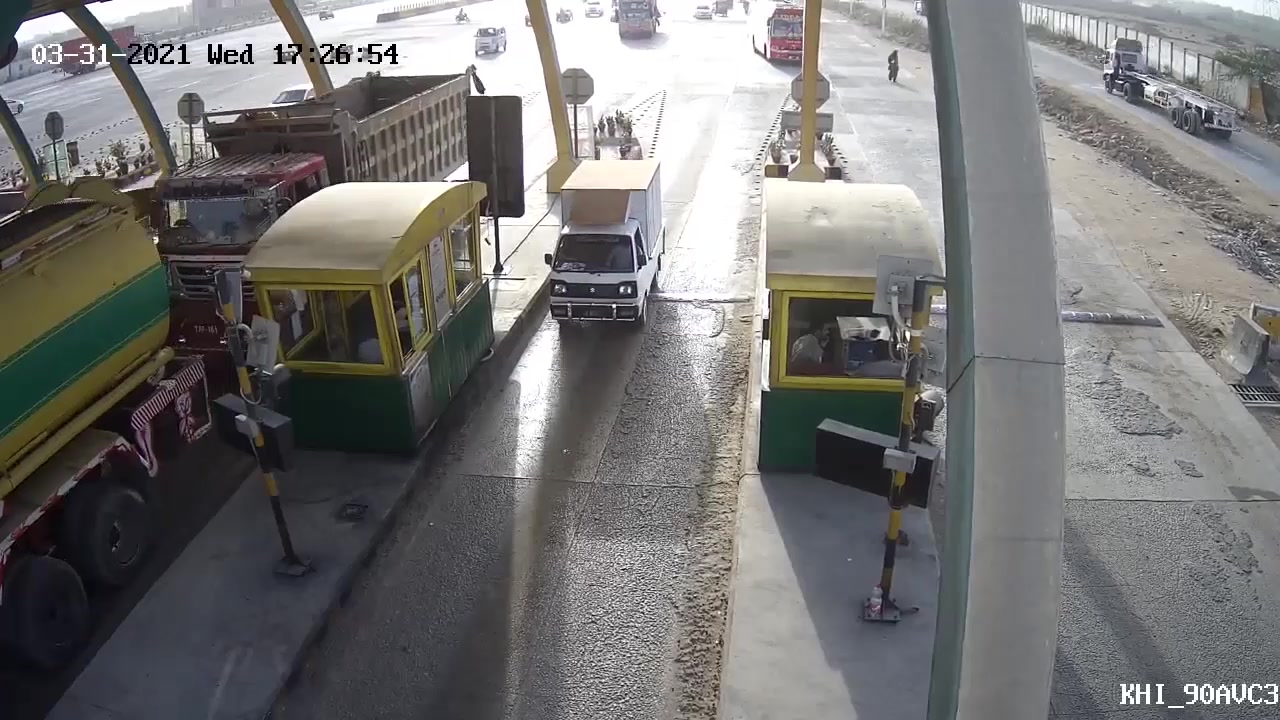F1: (522, 151, 677, 340)
